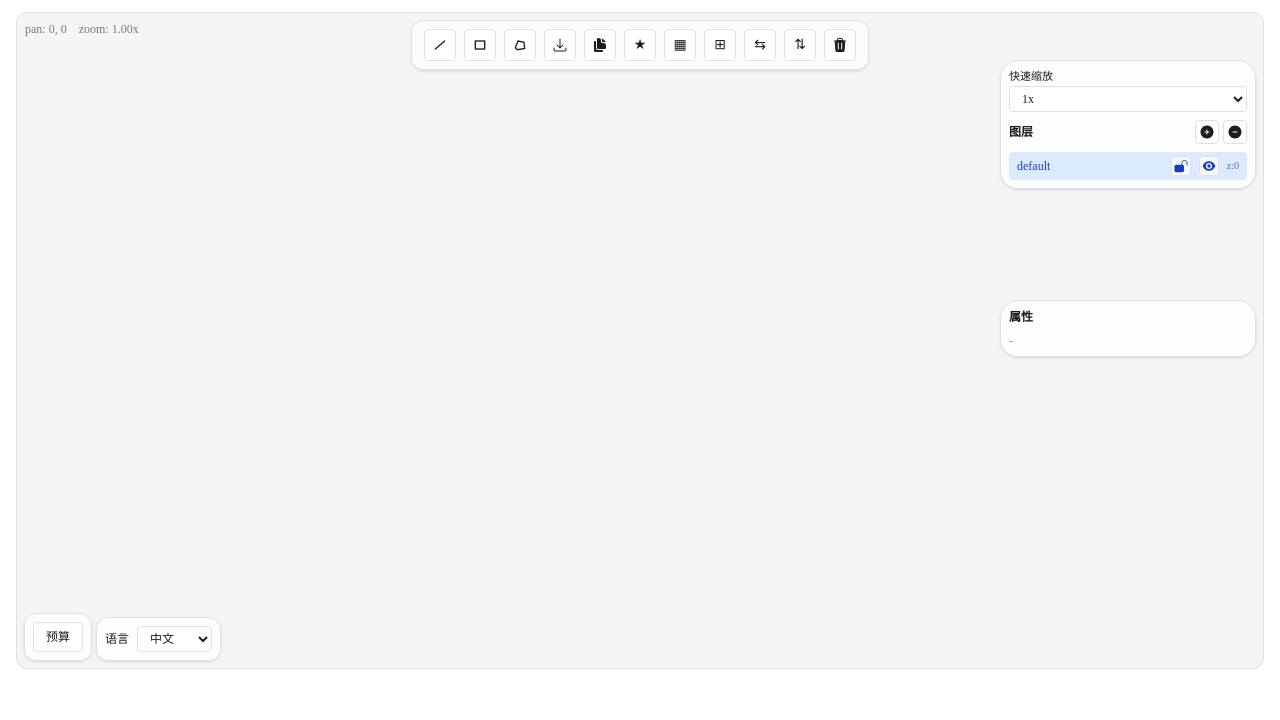
Test: EditorPage › copies selected shape
The width and height of the screenshot is (1280, 720).
Click the button named "添加矩形".
click(480, 45)  # box top-left (464, 29), bottom-right (496, 61)
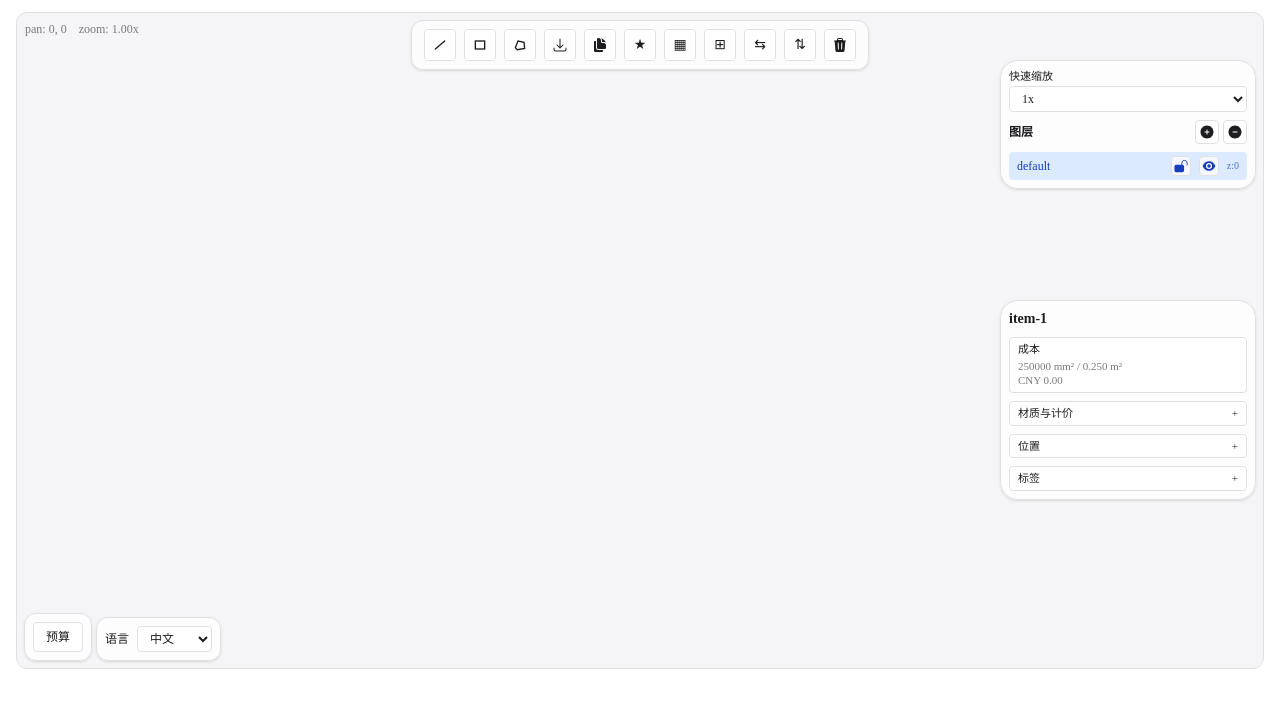
Click the button named "复制选中".
click(600, 45)  # box top-left (584, 29), bottom-right (616, 61)
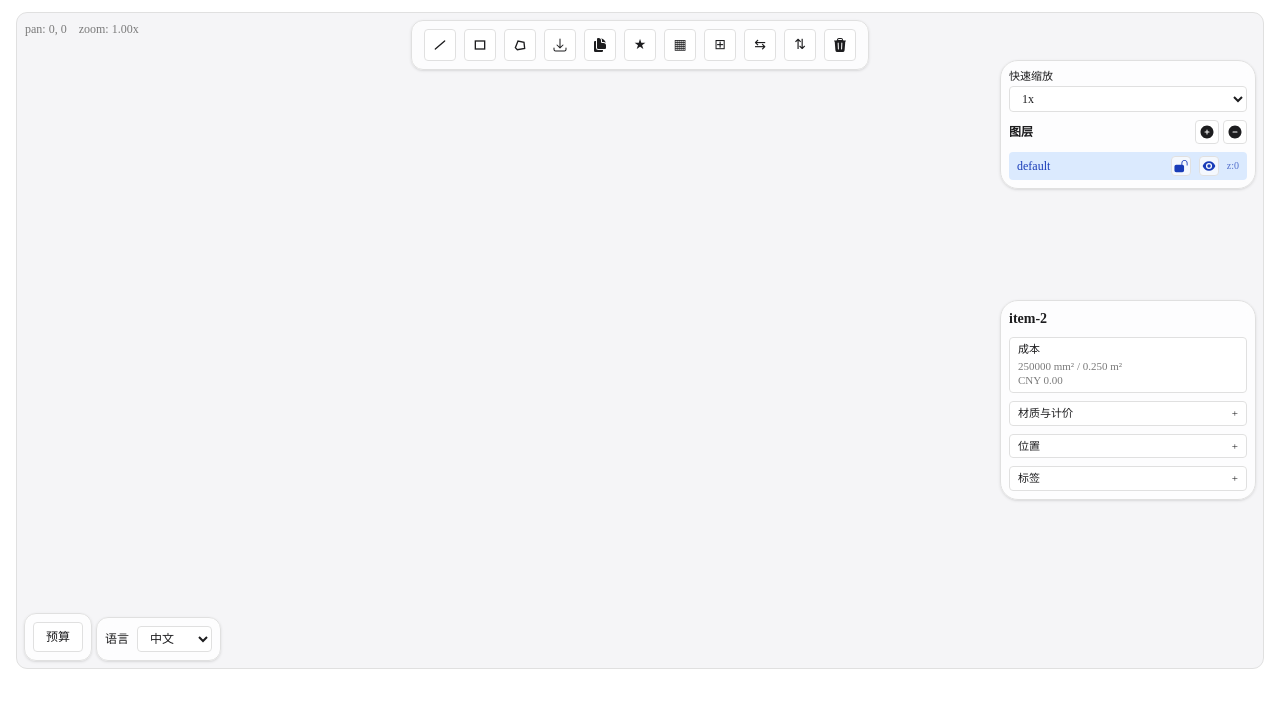
Expected: the button "item-2" is shown
Click the button "item-2".
click(1128, 319)  # box top-left (1009, 309), bottom-right (1247, 329)
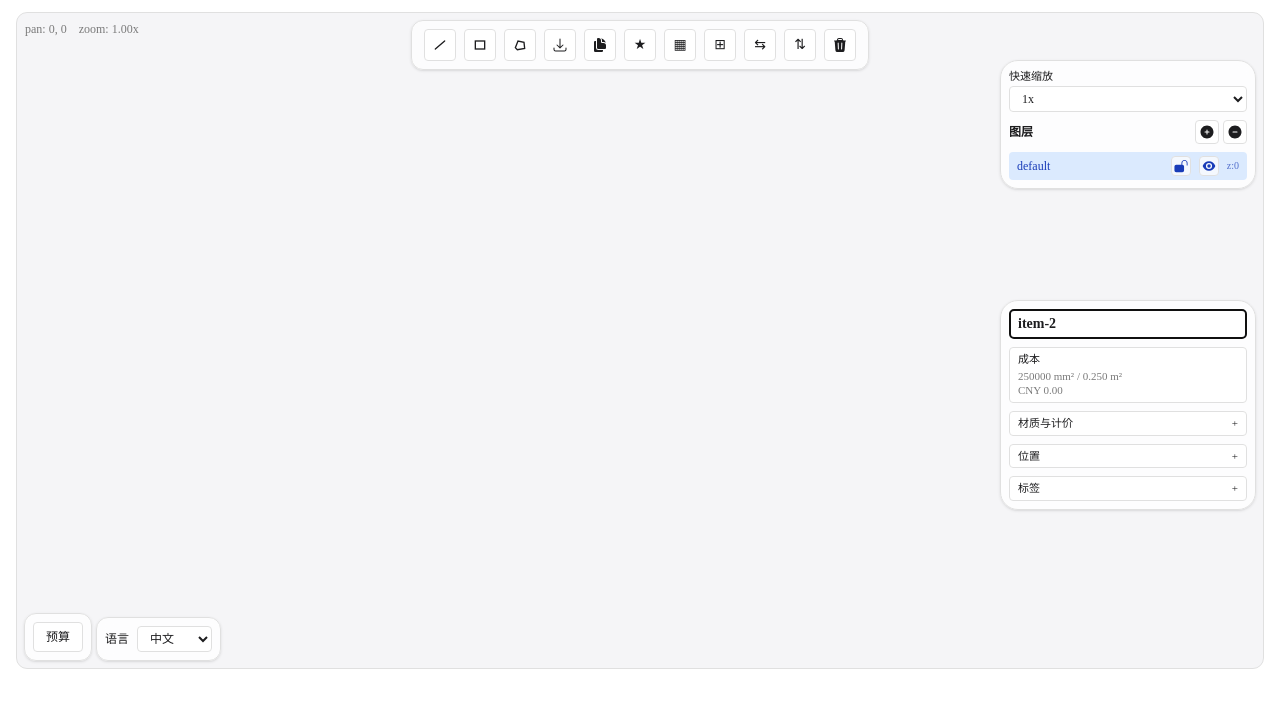
Expected: the field named "对象名称" holds "item-2", top-left (1009, 309), bottom-right (1247, 339)
